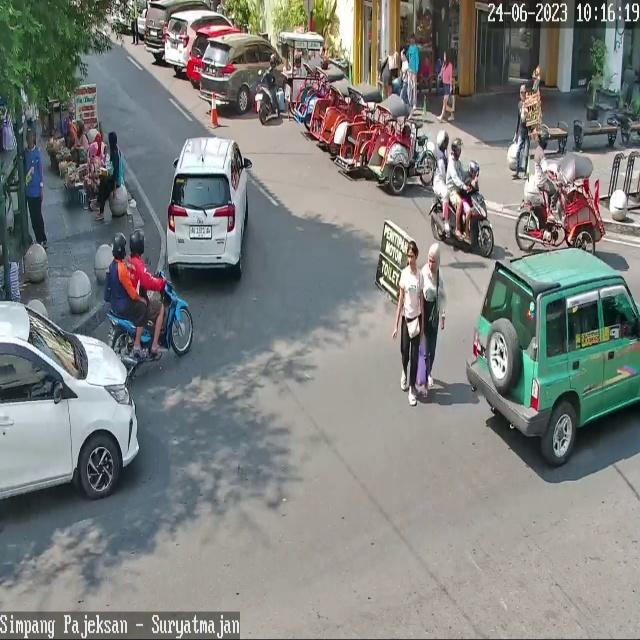bus: (106, 269, 193, 360), (431, 179, 495, 258)
motorcycle: (466, 247, 640, 468), (0, 299, 140, 500), (165, 135, 250, 283), (201, 34, 281, 113), (164, 9, 233, 67), (144, 0, 212, 54), (186, 24, 242, 82)
